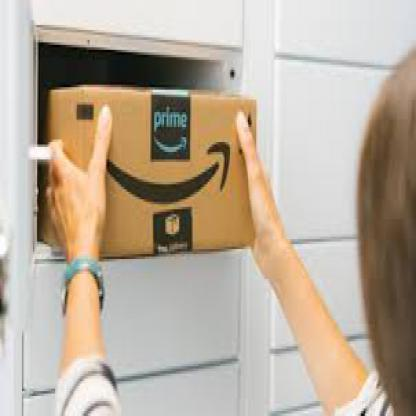package: (43, 82, 261, 265)
